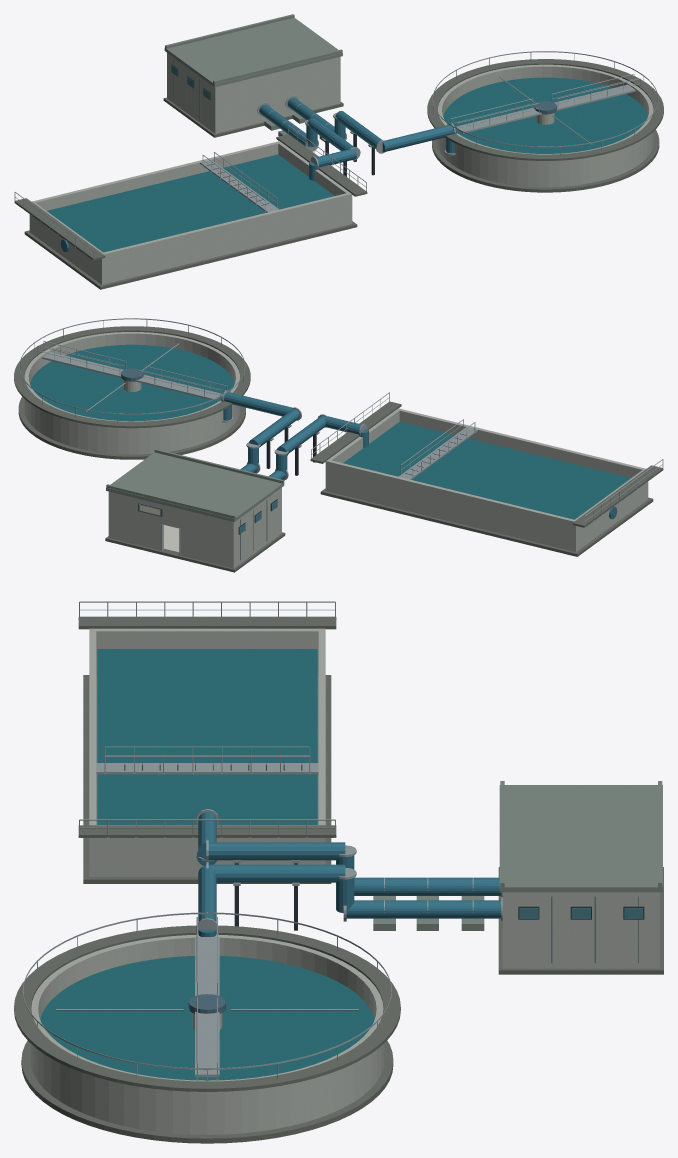
3 views of the same model, one above another, from view 1: azimuth 30°, elevation 25°; view 2: azimuth 150°, elevation 25°; view 3: azimuth 270°, elevation 25° (orthographic). The views are drawn at different scales.
Parts seen in each view (by area): view 1: BASIN_VIS_Basin_Water_Provisional, CLARIFIER_VIS_Clarifier_Water_Provisional, CLARIFIER_VIS_Clarifier_Ring_Concrete, BASIN_VIS_Basin_Long_ConcreteWall_001, SHED_VIS_Shed_FlatRoof_Slab, SHED_VIS_Shed_BackWall, CLARIFIER_VIS_Clarifier_Perimeter_Access, BASIN_VIS_Basin_Long_ConcreteWall, BASIN_VIS_Basin_Foundation, CLARIFIER_VIS_Clarifier_BaseSlab, BASIN_VIS_Basin_End_ConcreteWall, BASIN_VIS_Basin_Walkway_Side (+18 smaller); view 2: BASIN_VIS_Basin_Water_Provisional, CLARIFIER_VIS_Clarifier_Water_Provisional, CLARIFIER_VIS_Clarifier_Ring_Concrete, BASIN_VIS_Basin_Long_ConcreteWall, SHED_VIS_Shed_FlatRoof_Slab, CLARIFIER_VIS_Clarifier_Perimeter_Access, BASIN_VIS_Basin_Long_ConcreteWall_001, SHED_VIS_Shed_FrontWall_Pier, SHED_VIS_Shed_FrontWall_Pier_001, BASIN_VIS_Basin_Foundation, CLARIFIER_VIS_Clarifier_BaseSlab, BASIN_VIS_Basin_End_ConcreteWall (+17 smaller); view 3: BASIN_VIS_Basin_Water_Provisional, CLARIFIER_VIS_Clarifier_Water_Provisional, CLARIFIER_VIS_Clarifier_Ring_Concrete, SHED_VIS_Shed_FlatRoof_Slab, CLARIFIER_VIS_Clarifier_Perimeter_Access, BASIN_VIS_Basin_End_ConcreteWall_001, BASIN_VIS_Basin_End_ConcreteWall, CLARIFIER_VIS_Clarifier_BaseSlab, BASIN_VIS_Basin_Foundation, BASIN_VIS_Basin_Walkway_Side, BASIN_VIS_Basin_Walkway_Side_001, PIPE_VIS_PipeConnection_Main_DN900_001 (+18 smaller).
Boxes of the visible parts, x1,y1,x2,y2 form: BASIN_VIS_Basin_Water_Provisional: (47, 154, 334, 252); CLARIFIER_VIS_Clarifier_Water_Provisional: (443, 77, 647, 153); CLARIFIER_VIS_Clarifier_Ring_Concrete: (437, 64, 653, 187); BASIN_VIS_Basin_Long_ConcreteWall_001: (99, 192, 352, 284); SHED_VIS_Shed_FlatRoof_Slab: (164, 17, 342, 87); SHED_VIS_Shed_BackWall: (218, 57, 337, 132); CLARIFIER_VIS_Clarifier_Perimeter_Access: (427, 59, 663, 160); BASIN_VIS_Basin_Long_ConcreteWall: (29, 141, 281, 233); BASIN_VIS_Basin_Foundation: (24, 221, 357, 289); CLARIFIER_VIS_Clarifier_BaseSlab: (432, 129, 659, 192); BASIN_VIS_Basin_End_ConcreteWall: (31, 203, 102, 282); BASIN_VIS_Basin_Walkway_Side: (14, 198, 105, 260); BASIN_VIS_Basin_Water_Provisional: (343, 421, 630, 519); CLARIFIER_VIS_Clarifier_Water_Provisional: (30, 344, 234, 421); CLARIFIER_VIS_Clarifier_Ring_Concrete: (24, 332, 240, 454); BASIN_VIS_Basin_Long_ConcreteWall: (325, 459, 578, 551); SHED_VIS_Shed_FlatRoof_Slab: (106, 452, 284, 521); CLARIFIER_VIS_Clarifier_Perimeter_Access: (14, 326, 250, 428); BASIN_VIS_Basin_Long_ConcreteWall_001: (396, 408, 648, 500); SHED_VIS_Shed_FrontWall_Pier: (180, 509, 230, 567); SHED_VIS_Shed_FrontWall_Pier_001: (111, 492, 163, 550); BASIN_VIS_Basin_Foundation: (320, 488, 653, 556); CLARIFIER_VIS_Clarifier_BaseSlab: (18, 396, 245, 459); BASIN_VIS_Basin_End_ConcreteWall: (575, 470, 646, 550); BASIN_VIS_Basin_Water_Provisional: (97, 649, 317, 824); CLARIFIER_VIS_Clarifier_Water_Provisional: (40, 956, 374, 1080); CLARIFIER_VIS_Clarifier_Ring_Concrete: (30, 935, 384, 1134); SHED_VIS_Shed_FlatRoof_Slab: (499, 785, 662, 892); CLARIFIER_VIS_Clarifier_Perimeter_Access: (14, 925, 400, 1091); BASIN_VIS_Basin_End_ConcreteWall_001: (96, 825, 318, 876); BASIN_VIS_Basin_End_ConcreteWall: (96, 628, 318, 676); CLARIFIER_VIS_Clarifier_BaseSlab: (21, 1040, 393, 1143); BASIN_VIS_Basin_Foundation: (83, 675, 331, 883); BASIN_VIS_Basin_Walkway_Side: (78, 616, 336, 629); BASIN_VIS_Basin_Walkway_Side_001: (78, 825, 336, 837); PIPE_VIS_PipeConnection_Main_DN900_001: (346, 900, 501, 918).
Bounding box in the file's own units: 57 × 5.14 × 33.03.
12 materials, 12 textured.
